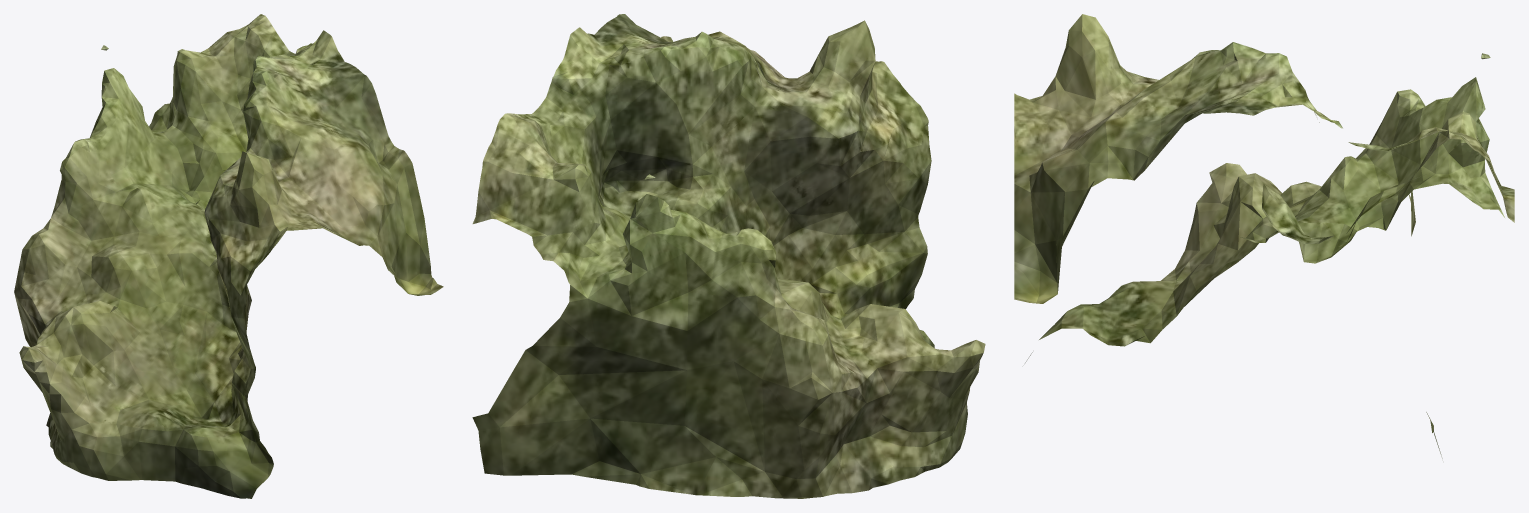
3 views of the same model, side by side, from view 1: azimuth 30°, elevation 25°; view 2: azimuth 150°, elevation 25°; view 3: azimuth 270°, elevation 25° (orthographic). The views are drawn at different scales.
Size of the model in its own units: 2.74 by 2.63 by 2.95.
4 materials, 4 textured.
